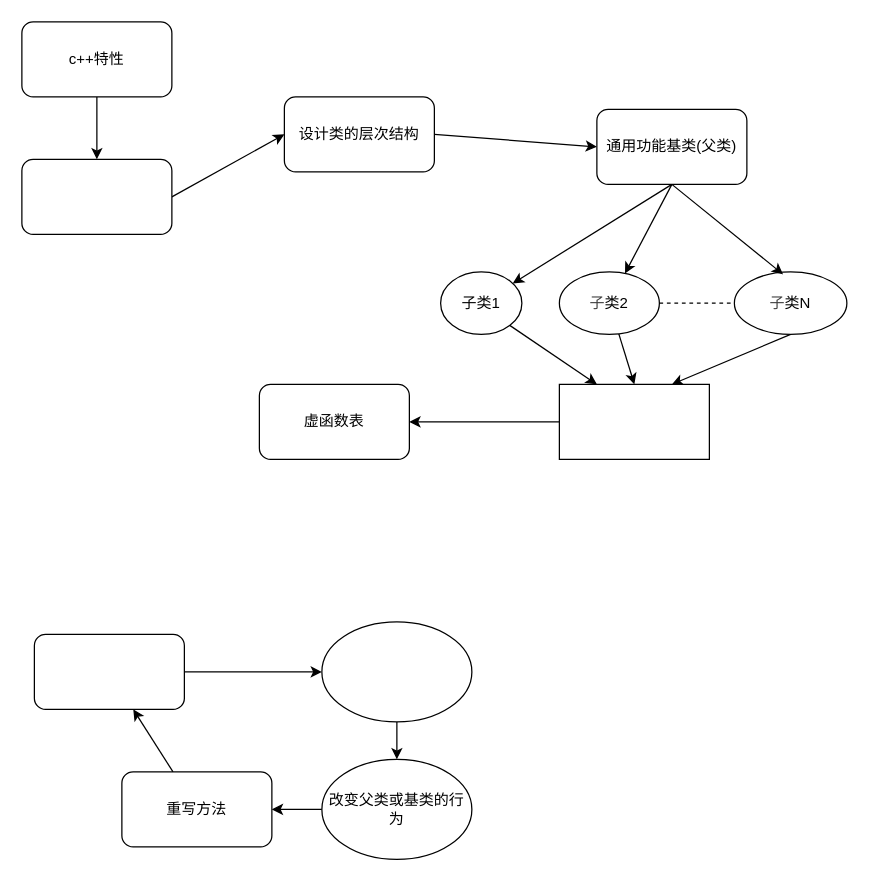
The diagram is 869 pixels wide and 881 high, and some of its shapes have lost their labels. Each missing label, with the centre of its shape:
"C++ 中的继承" goes at [96,196].
"一个类型可以有多种类型、行为" goes at [396,671].
"多态" goes at [108,671].
"扩展基类或添加新功能" goes at [633,421].
